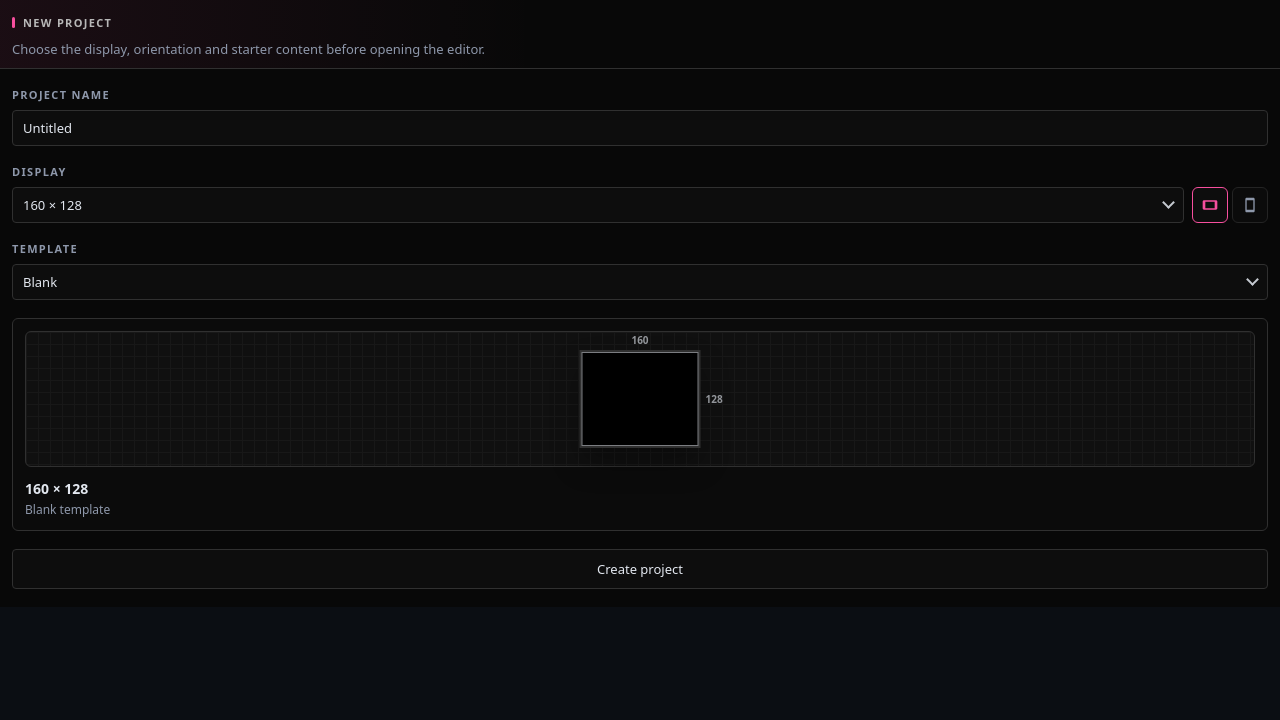
CreateProjectPanel: create mode › lists custom templates in the select
The width and height of the screenshot is (1280, 720).
Click the button with aria-label "template" at (40, 282), box [12,264,1268,300]
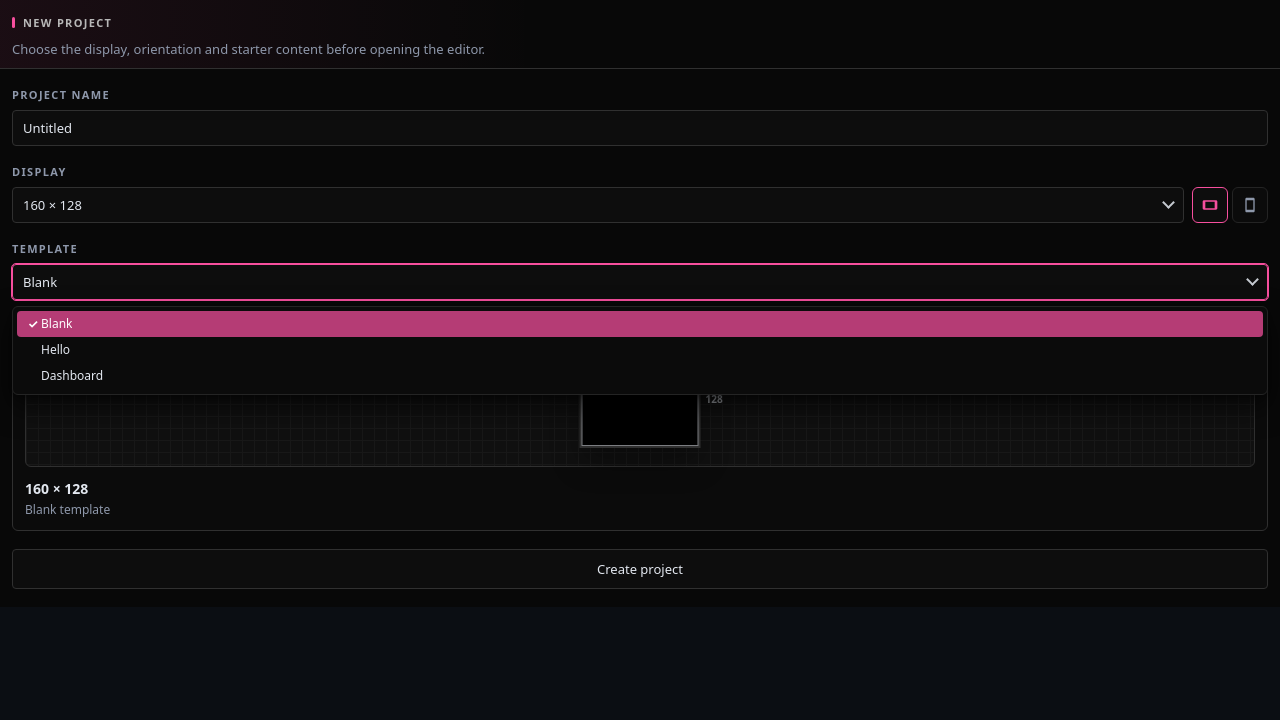
Check: the option "Dashboard" is shown, box [17,363,1263,390]
Check: the option "✓ Blank" is shown, box [17,310,1263,337]
Check: the option "Hello" is shown, box [17,337,1263,363]
